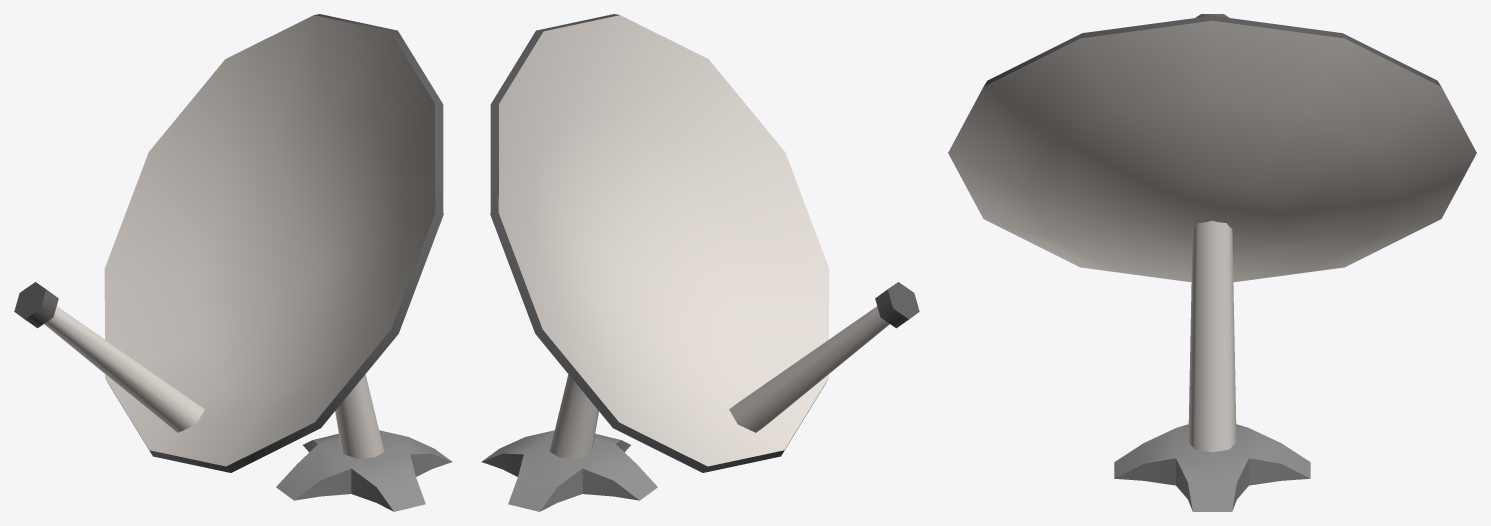
File: Dish_Antenna.fbx
3 views of the same model, side by side, from view 1: azimuth 30°, elevation 25°; view 2: azimuth 150°, elevation 25°; view 3: azimuth 270°, elevation 25° (orthographic). The views are drawn at different scales.
Visible parts, largest first — view 1: Dish_Antenna; view 2: Dish_Antenna; view 3: Dish_Antenna.
Part boxes in pixels (x1,y1,x2,y2): Dish_Antenna: (14,14,452,511); Dish_Antenna: (481,14,919,511); Dish_Antenna: (948,14,1476,511).
Size of the model in its own units: 145 by 142 by 146.
